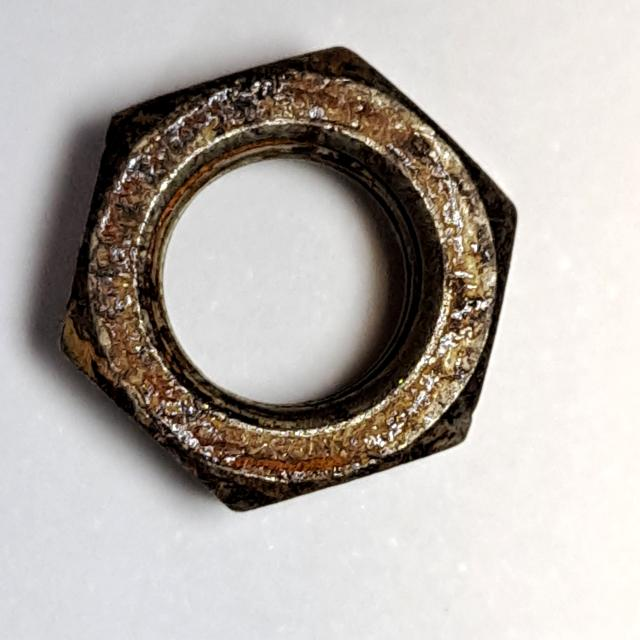Rust: (42, 36, 528, 529)
